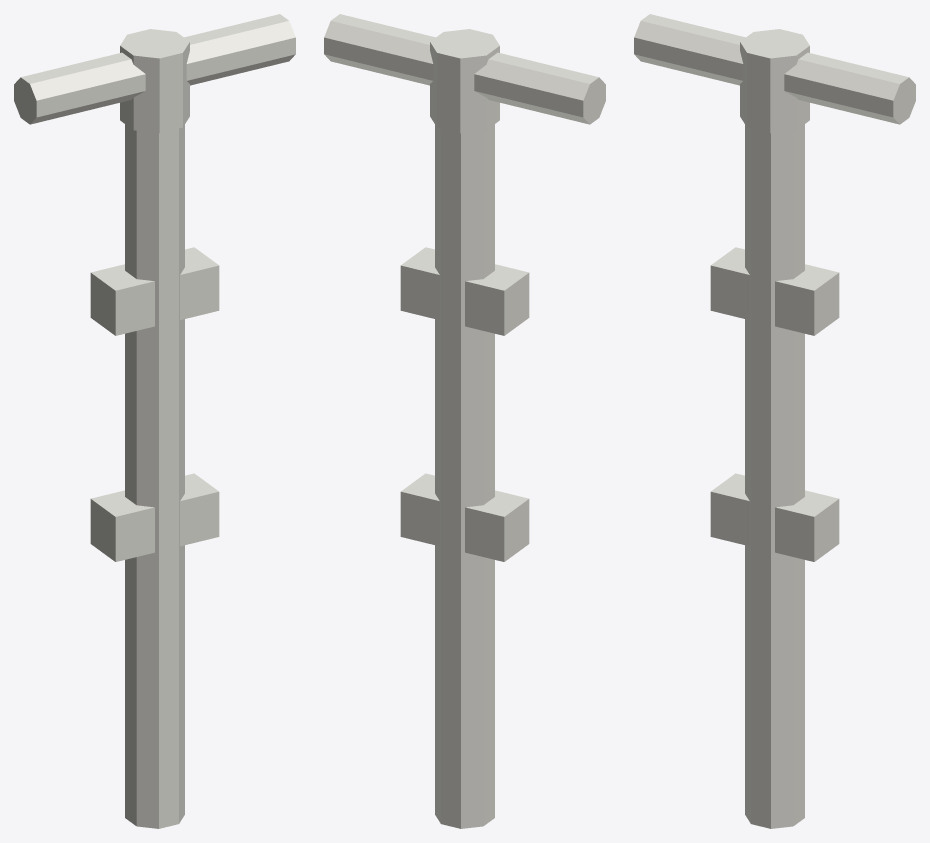
File: SM_Street_GuardPipe_White_Joint_01.gltf
3 renders of one model, left to right at view 1: azimuth 30°, elevation 25°; view 2: azimuth 150°, elevation 25°; view 3: azimuth 330°, elevation 25°, orthographic.
Visible parts, largest first — view 1: SM_Street_GuardPipe_White_Joint_01; view 2: SM_Street_GuardPipe_White_Joint_01; view 3: SM_Street_GuardPipe_White_Joint_01.
Boxes of the visible parts, x1,y1,x2,y2 form: SM_Street_GuardPipe_White_Joint_01: (14,14,295,828); SM_Street_GuardPipe_White_Joint_01: (324,14,605,828); SM_Street_GuardPipe_White_Joint_01: (634,14,915,828).
Bounding box in the file's own units: 0.3 × 0.854 × 0.0652.
1 material, 1 textured.
